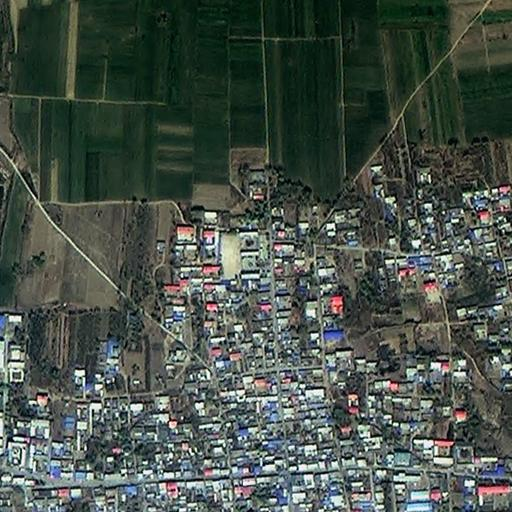school: (220, 228, 262, 283)
